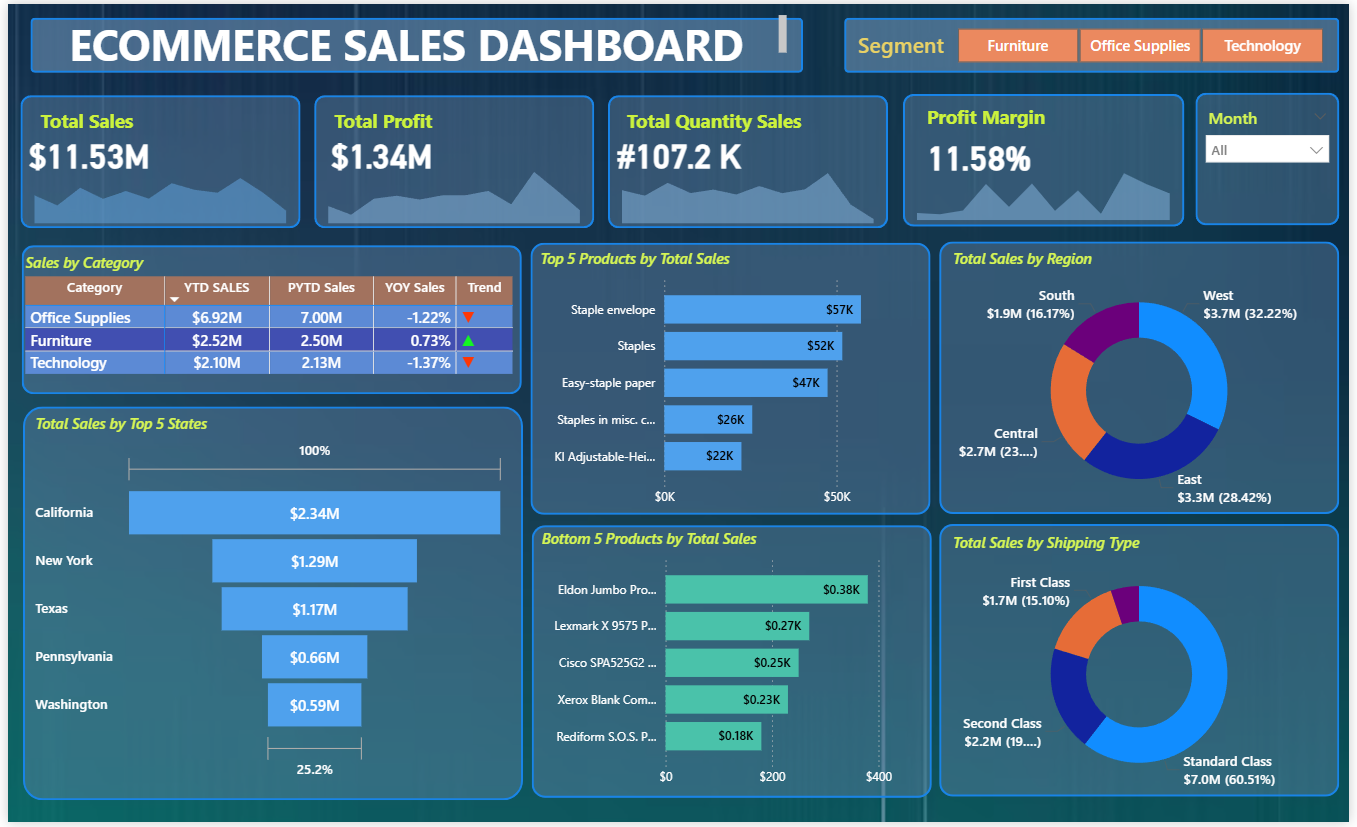

The page's visual inventory and layout, read from the dashboard file:
{"tool":"powerbi","page":{"name":"Page 1","canvas":[1341,818],"ordinal":0},"visuals":[{"type":"shape","box":[22.5,13.8,772.5,55],"z":0},{"type":"shape","box":[12.2,91.2,280,133],"z":1000},{"type":"card","fields":{"Values":["ecommerce_data.YTD SALES"]},"box":[14.2,129,135,43.8],"z":3000},{"type":"areaChart","fields":{"Category":["Calendar.Month"],"Y":["Sum(ecommerce_data.sales_per_order)"]},"box":[12.2,152.2,280,72],"z":4000},{"type":"textbox","box":[27,99.1,105.6,40],"z":7000},{"type":"shape","box":[306.5,91.2,280,133],"z":8000},{"type":"card","fields":{"Values":["ecommerce_data.YTD Profit"]},"box":[305.7,128.6,135,43.8],"z":10000},{"type":"areaChart","fields":{"Category":["Calendar.Month"],"Y":["Sum(ecommerce_data.profit_per_order)"]},"box":[306.5,152.2,280,72],"z":11000},{"type":"textbox","box":[321.2,98.8,120,40],"z":14000},{"type":"shape","box":[599.9,91.5,280,133],"z":15000},{"type":"card","fields":{"Values":["ecommerce_data.YTD Conacatenated Qty"]},"box":[603.8,128.8,135,43.8],"z":17000},{"type":"areaChart","fields":{"Category":["Calendar.Month"],"Y":["Sum(ecommerce_data.order_quantity)"]},"box":[599.9,152.5,280,72],"z":18000},{"type":"textbox","box":[613.8,98.8,207.5,40],"z":21000},{"type":"shape","box":[894.9,90.3,281.2,132.5],"z":22000},{"type":"card","fields":{"Values":["ecommerce_data.YTD Profit Margin"]},"box":[903.8,130,135,43.8],"z":24000},{"type":"areaChart","fields":{"Category":["Calendar.Month"],"Y":["ecommerce_data.Profit Margin"]},"box":[894.9,147.8,281.2,73.8],"z":25000},{"type":"textbox","box":[908.4,95.4,167.5,40],"z":28000},{"type":"shape","box":[13.8,241.2,500,149],"z":29000},{"type":"pivotTable","title":"Sales by Category","fields":{"Rows":["ecommerce_data.category_name"],"Values":["ecommerce_data.YTD SALES","ecommerce_data.PYTD Sales","ecommerce_data.YOY Sales","ecommerce_data.Sales Trend icon"]},"box":[13,247.5,500,139],"z":30000},{"type":"shape","box":[15,402.5,500,393.8],"z":31000},{"type":"shape","box":[522.2,238.8,400,272],"z":32000},{"type":"shape","box":[523.4,521.3,400,272.5],"z":33000},{"type":"barChart","title":"Top 5 Products by Total Sales","fields":{"Category":["ecommerce_data.product_name"],"Y":["ecommerce_data.YTD SALES"]},"box":[527.2,243.8,388.8,267.5],"z":34000},{"type":"barChart","title":"Bottom  5 Products by Total Sales","fields":{"Category":["ecommerce_data.product_name"],"Y":["ecommerce_data.YTD SALES"]},"box":[528.4,523.8,388.8,267.5],"z":35000},{"type":"shape","box":[931.2,237.5,400,272.5],"z":36000},{"type":"shape","box":[931.2,520,400,272.5],"z":37000},{"type":"donutChart","title":"Total Sales by Region","fields":{"Category":["ecommerce_data.customer_region"],"Y":["ecommerce_data.YTD SALES"]},"box":[940,243.8,382.5,266.2],"z":38000},{"type":"donutChart","title":"Total Sales by Shipping Type","fields":{"Y":["ecommerce_data.YTD SALES"],"Category":["ecommerce_data.shipping_type"]},"box":[940,527.5,382.5,266.2],"z":39000},{"type":"shape","box":[836.2,13.8,495,55],"z":40000},{"type":"textbox","box":[56.2,6.2,727.5,62.5],"z":41000},{"type":"textbox","box":[845,21.2,126.2,40],"z":42000},{"type":"shape","box":[1187.5,88.8,143.8,132.5],"z":43000},{"type":"slicer","fields":{"Values":["Calendar.Month"]},"box":[1187.5,97.5,143.8,110],"z":44000},{"type":"slicer","fields":{"Values":["ecommerce_data.Category"]},"box":[923.8,17.5,415,47.5],"z":45000},{"type":"funnel","title":"Total Sales by Top 5 States","fields":{"Category":["ecommerce_data.customer_state"],"Y":["ecommerce_data.YTD SALES"]},"box":[22.5,408.8,480,372.5],"z":46000}]}

Visuals, with their boxes in screenshot pixels (x1, y1, x2, y2), scaled from the page's 1341x818 canvas onto the 1357x827 screenshot:
shape: 23:14:804:70
shape: 12:92:296:227
card - ecommerce_data.YTD SALES: 14:130:151:175
areaChart - Calendar.Month x Sum(ecommerce_data.sales_per_order): 12:154:296:227
textbox: 27:100:134:141
shape: 310:92:593:227
card - ecommerce_data.YTD Profit: 309:130:446:174
areaChart - Calendar.Month x Sum(ecommerce_data.profit_per_order): 310:154:593:227
textbox: 325:100:446:140
shape: 607:93:890:227
card - ecommerce_data.YTD Conacatenated Qty: 611:130:748:174
areaChart - Calendar.Month x Sum(ecommerce_data.order_quantity): 607:154:890:227
textbox: 621:100:831:140
shape: 906:91:1190:225
card - ecommerce_data.YTD Profit Margin: 915:131:1051:176
areaChart - Calendar.Month x ecommerce_data.Profit Margin: 906:149:1190:224
textbox: 919:96:1089:137
shape: 14:244:520:394
"Sales by Category" pivotTable: 13:250:519:391
shape: 15:407:521:805
shape: 528:241:933:516
shape: 530:527:934:803
"Top 5 Products by Total Sales" barChart: 533:246:927:517
"Bottom  5 Products by Total Sales" barChart: 535:530:928:800
shape: 942:240:1347:516
shape: 942:526:1347:801
"Total Sales by Region" donutChart: 951:246:1338:516
"Total Sales by Shipping Type" donutChart: 951:533:1338:802
shape: 846:14:1347:70
textbox: 57:6:793:69
textbox: 855:21:983:62
shape: 1202:90:1347:224
slicer - Calendar.Month: 1202:99:1347:210
slicer - ecommerce_data.Category: 935:18:1355:66
"Total Sales by Top 5 States" funnel: 23:413:508:790
